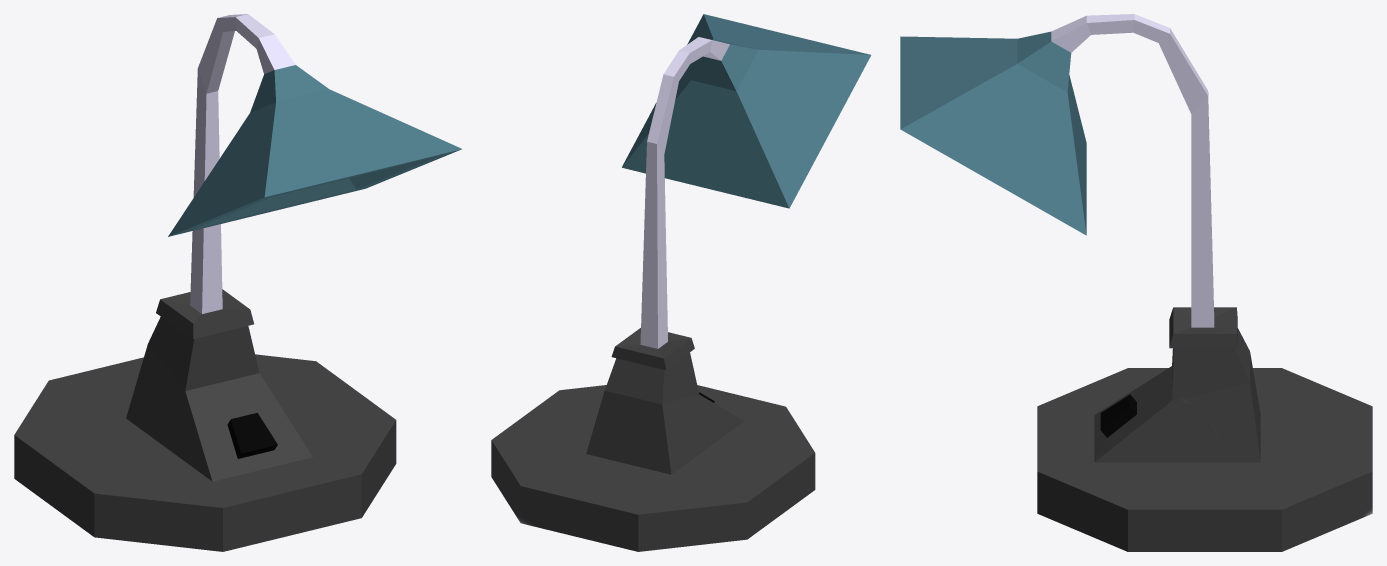
The model's file is Portatif.fbx.
3 views of the same model, side by side, from view 1: azimuth 30°, elevation 25°; view 2: azimuth 150°, elevation 25°; view 3: azimuth 270°, elevation 25° (orthographic). The views are drawn at different scales.
Parts seen in each view (by area): view 1: Cube; view 2: Cube; view 3: Cube.
Part boxes in pixels (box(x1,y1,x2,y2)): Cube: box(14, 14, 461, 551); Cube: box(491, 14, 871, 551); Cube: box(900, 14, 1372, 551).
Bounding box in the file's own units: 200 × 306 × 282.
1 material, 1 textured.
